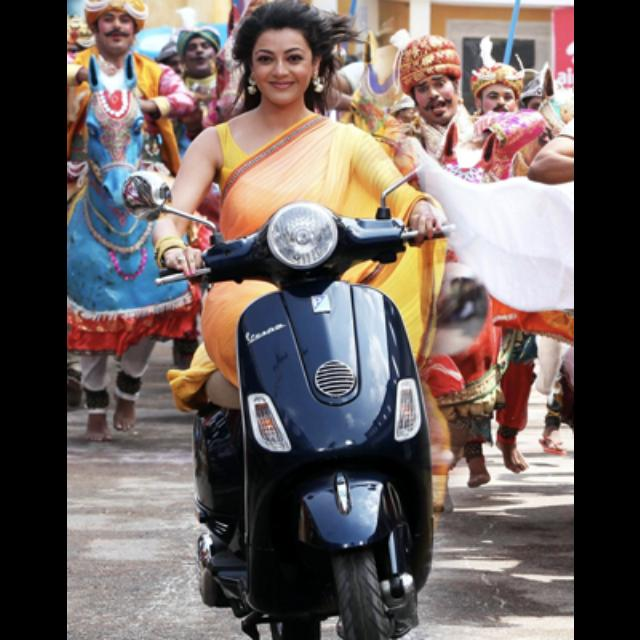Without Helmet: (233, 5, 335, 111)
